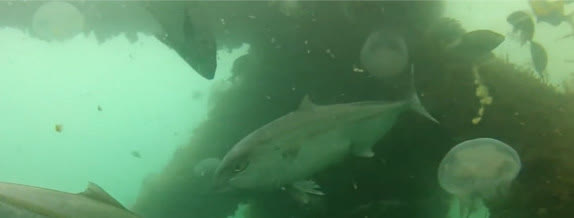hamati: (208, 59, 444, 192)
